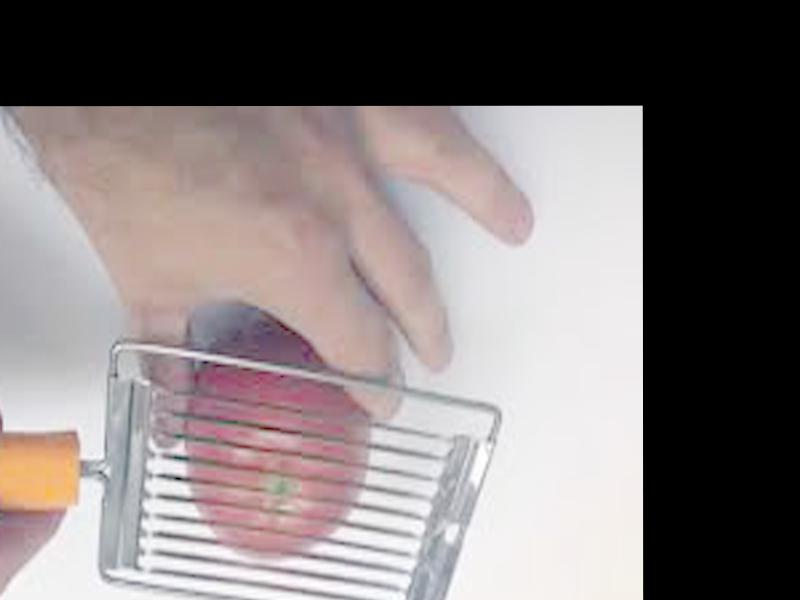Tomato: (181, 330, 365, 559)
